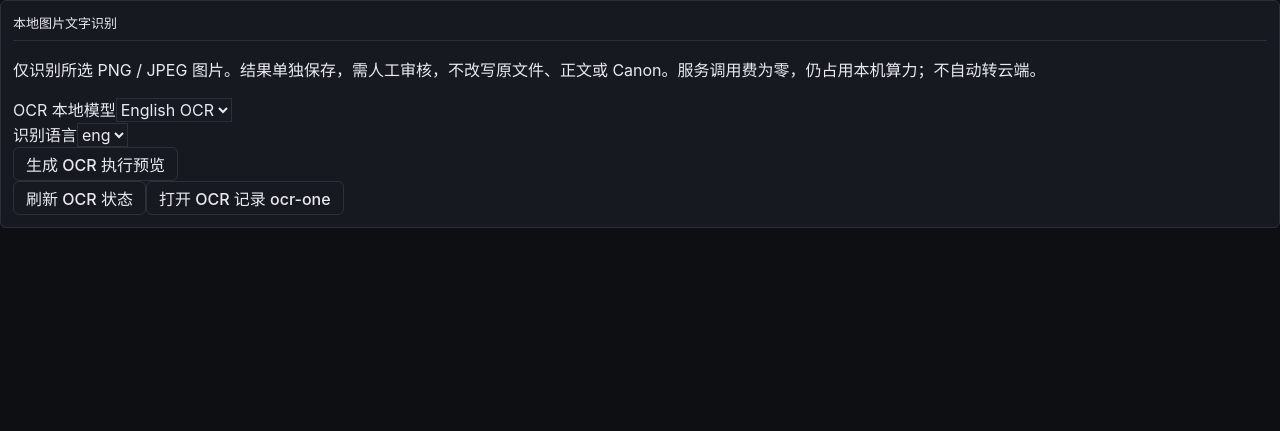
it: reopening reads existing receipt without replaying execution
Click the button "打开 OCR 记录 ocr-one" at [245, 198], box [146, 181, 344, 215]
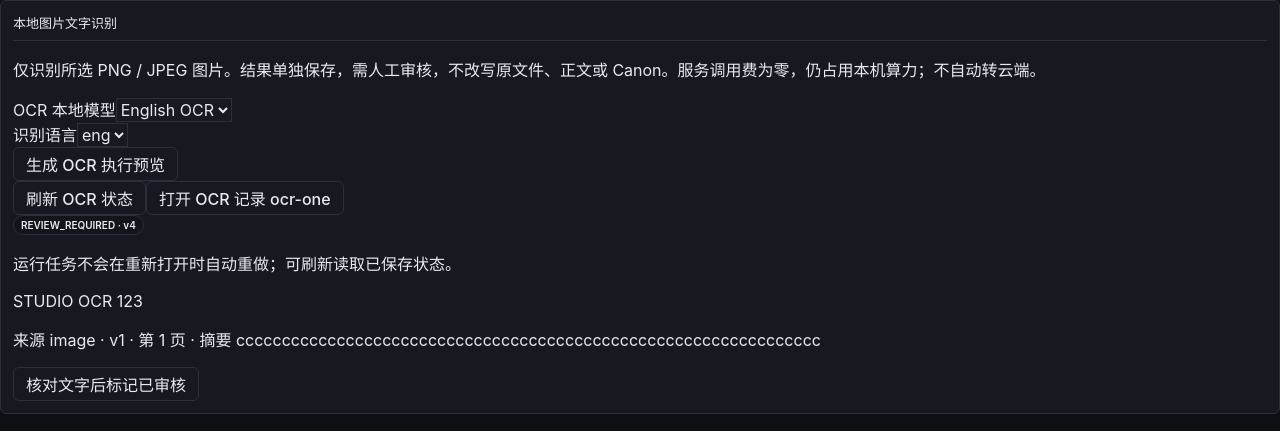
Check: the text "STUDIO OCR 123" is shown, box [13, 291, 143, 311]
